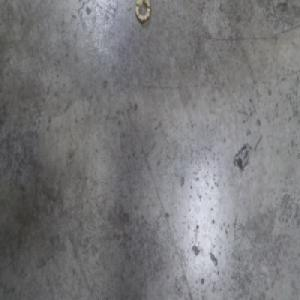Nut: (135, 0, 152, 27)
